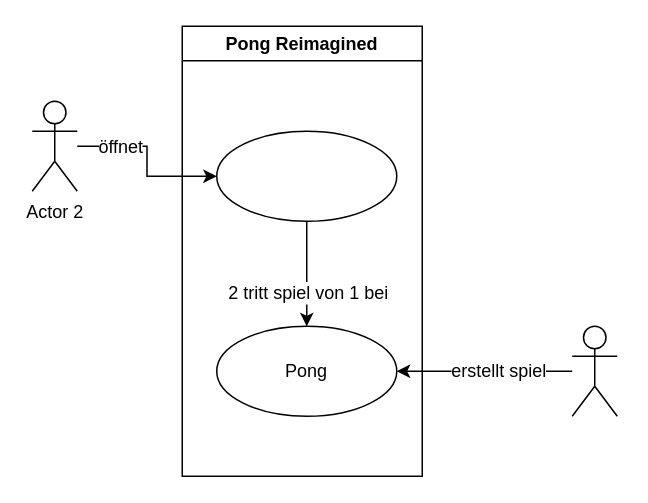
Image size: 648x503. Some labels were removed from this diagram. Here are the shapes that lost their labels. From the top down, the centre of each, then its label:
At point 306,175: "Lobby".
At point 594,370: "Actor 1".
